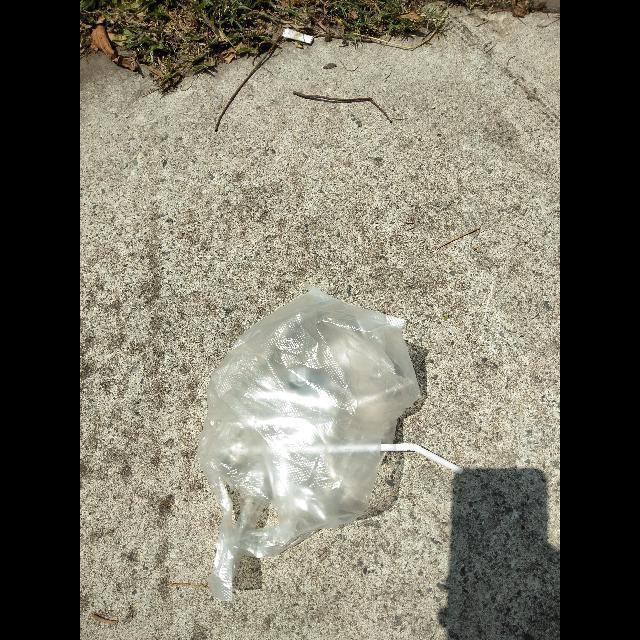Plastic: (196, 282, 420, 600), (307, 444, 463, 474)
